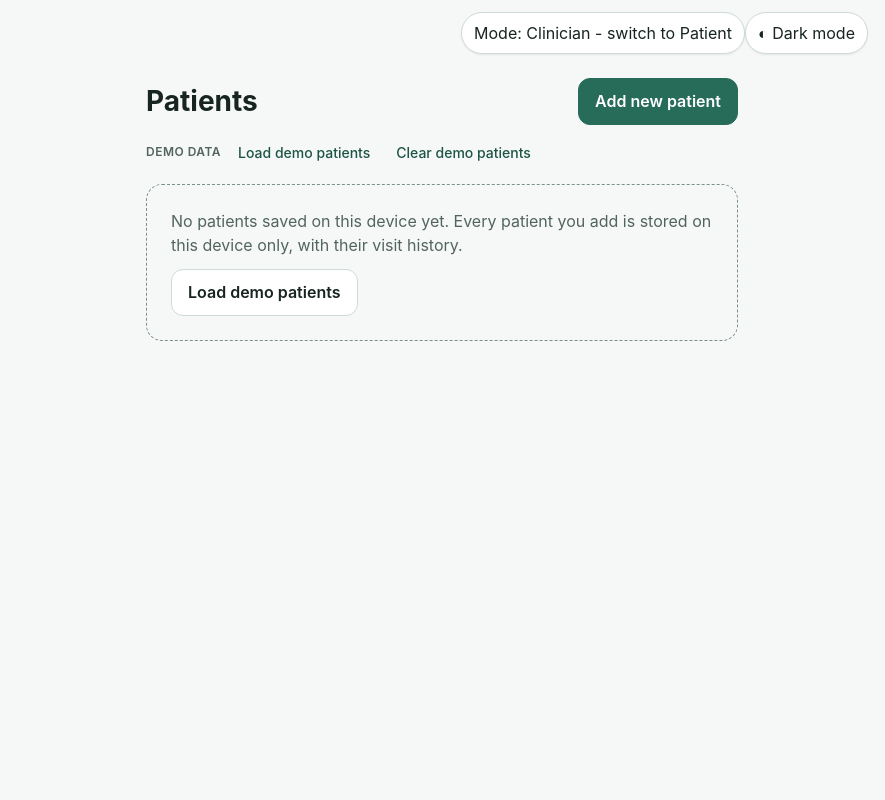
Test: App clinician patient list › runs the model for a selected demo patient's visits before showing the dashboard
Click the button "Load demo patients" next to "Demo data": (304, 152) [229, 137, 379, 168]
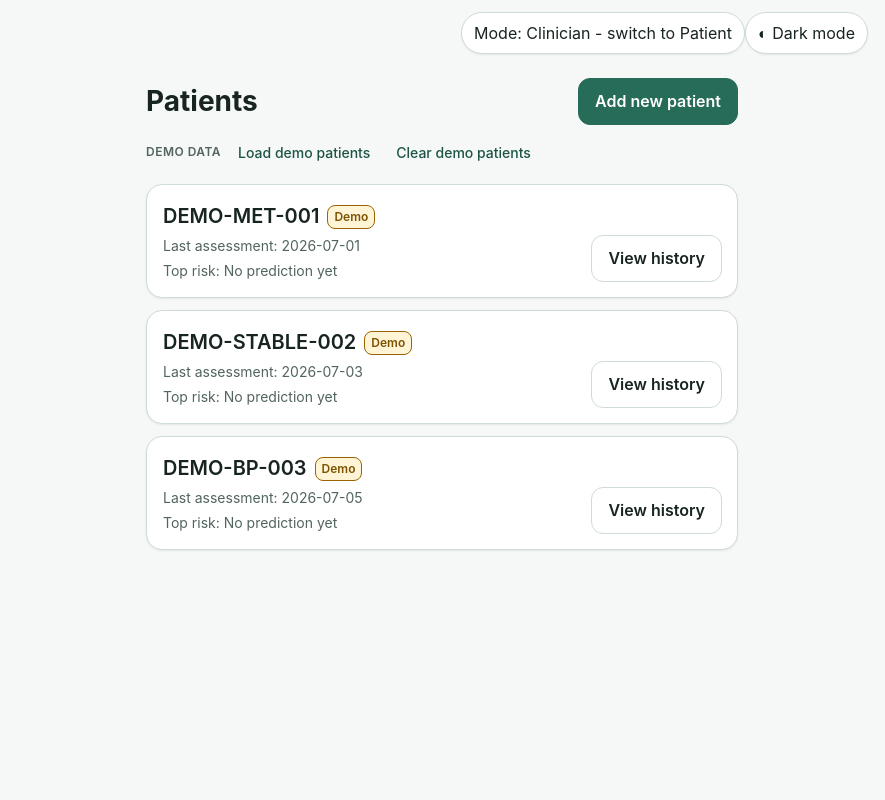
Click the button with class "clinician-patient-list-select" that starts with "DEMO-MET-001": (241, 216) [146, 184, 738, 298]
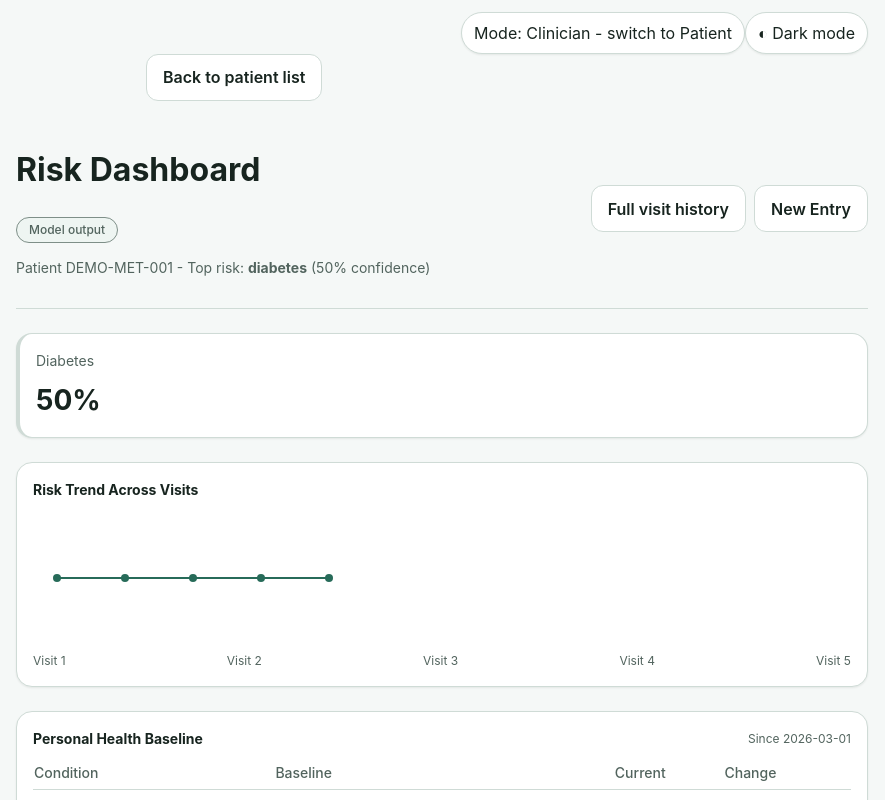
Expected: the text "Risk Dashboard" is shown, [16, 150, 260, 189]
Expected: the text "Model output" is shown, [29, 222, 105, 238]
